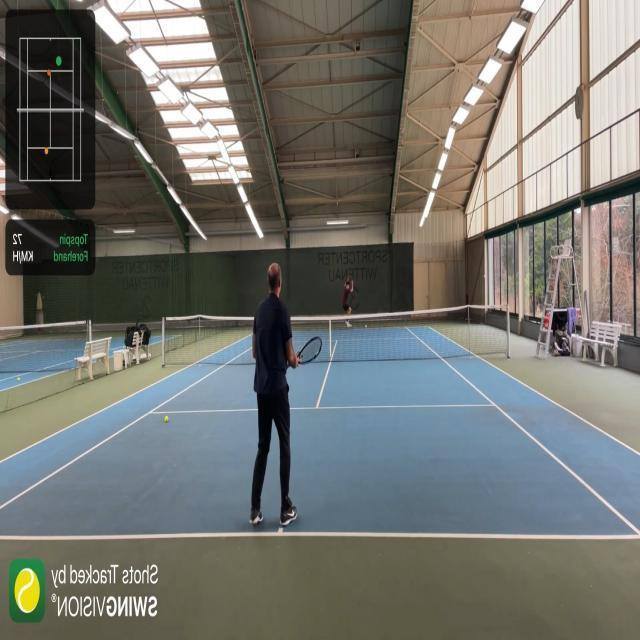court: (0, 326, 640, 542)
net: (160, 304, 512, 361)
player: (249, 262, 322, 526)
